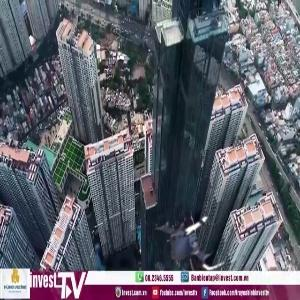drone: (152, 203, 233, 284)
